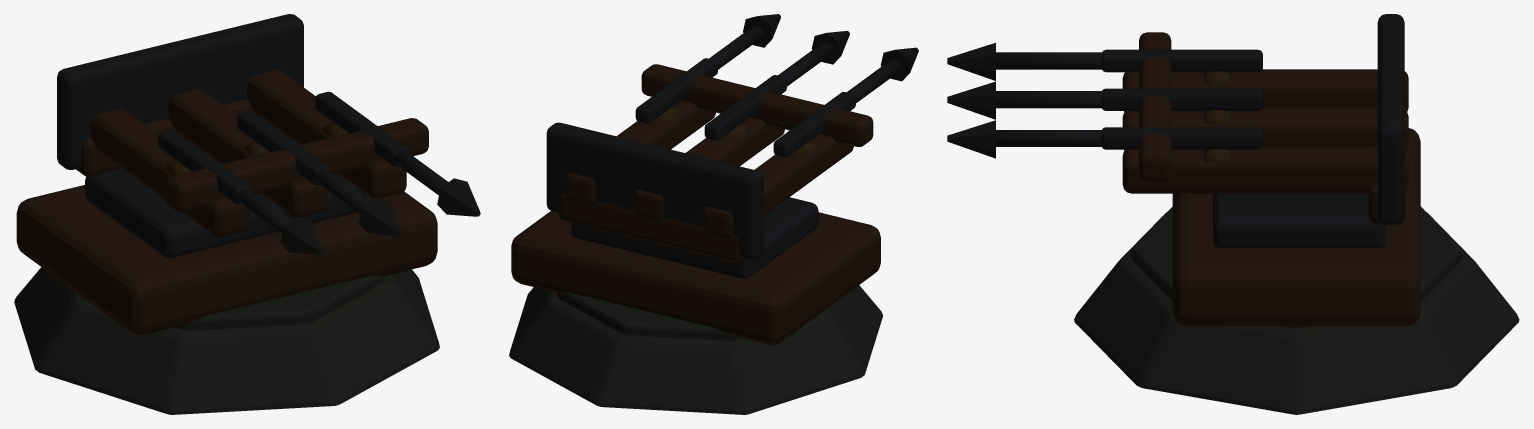
Rendered from TowerMulti1_pose.obj.
The picture shows the model from 3 angles, left to right: view 1: azimuth 30°, elevation 25°; view 2: azimuth 150°, elevation 25°; view 3: azimuth 270°, elevation 25°; orthographic projection. The views are drawn at different scales.
Parts seen in each view (by area): view 1: rough_stone_plinth_lower_course, oak_firing_deck, iron_volley_shield, iron_turntable, volley_bow_stock, volley_bow_stock.001, volley_bow_stock.002, rough_stone_plinth_upper_course, volley_bow_limb, volley_bow_limb.002, volley_bow_limb.001, volley_iron_guide.002 (+9 smaller); view 2: rough_stone_plinth_lower_course, oak_firing_deck, iron_volley_shield, iron_turntable, oak_windlass_rail, volley_bow_stock, rough_stone_plinth_upper_course, volley_bow_stock.002, volley_bow_stock.001, volley_bow_limb, volley_bow_limb.002, volley_iron_guide.002 (+9 smaller); view 3: rough_stone_plinth_lower_course, oak_firing_deck, volley_bow_stock.002, iron_turntable, volley_bow_stock, volley_bow_stock.001, iron_volley_shield, rough_stone_plinth_upper_course, volley_iron_guide, volley_iron_guide.001, volley_iron_guide.002, volley_bow_limb.002 (+8 smaller).
Part boxes in pixels (x1,y1,x2,y2): rough_stone_plinth_lower_course: (14,267,439,414); oak_firing_deck: (16,185,437,334); iron_volley_shield: (57,14,303,169); iron_turntable: (85,130,366,257); volley_bow_stock: (90,108,249,237); volley_bow_stock.001: (168,89,328,217); volley_bow_stock.002: (247,70,406,198); rough_stone_plinth_upper_course: (175,275,384,330); volley_bow_limb: (165,156,267,212); volley_bow_limb.002: (333,118,428,173); volley_bow_limb.001: (255,137,346,192); volley_iron_guide.002: (315,91,408,166); rough_stone_plinth_lower_course: (509,285,882,414); oak_firing_deck: (511,211,880,344); iron_volley_shield: (546,122,763,259); iron_turntable: (571,197,818,278); oak_windlass_rail: (558,193,746,262); volley_bow_stock: (703,134,853,238); rough_stone_plinth_upper_course: (557,292,741,340); volley_bow_stock.002: (565,100,715,204); volley_bow_stock.001: (634,117,784,221); volley_bow_limb: (783,99,873,146); volley_bow_limb.002: (641,64,725,113); volley_iron_guide.002: (635,58,717,123); rough_stone_plinth_lower_course: (1074,212,1519,414); oak_firing_deck: (1172,128,1420,326); volley_bow_stock.002: (1122,147,1408,193); iron_turntable: (1213,193,1385,248); volley_bow_stock: (1122,69,1408,111); volley_bow_stock.001: (1122,108,1408,150); iron_volley_shield: (1377,14,1404,224); rough_stone_plinth_upper_course: (1131,206,1461,328); volley_iron_guide: (1101,49,1262,72); volley_iron_guide.001: (1101,88,1262,110); volley_iron_guide.002: (1101,127,1262,149); volley_bow_limb.002: (1139,111,1171,181).
Bounding box in the file's own units: 1.65 × 1.03 × 2.12.
